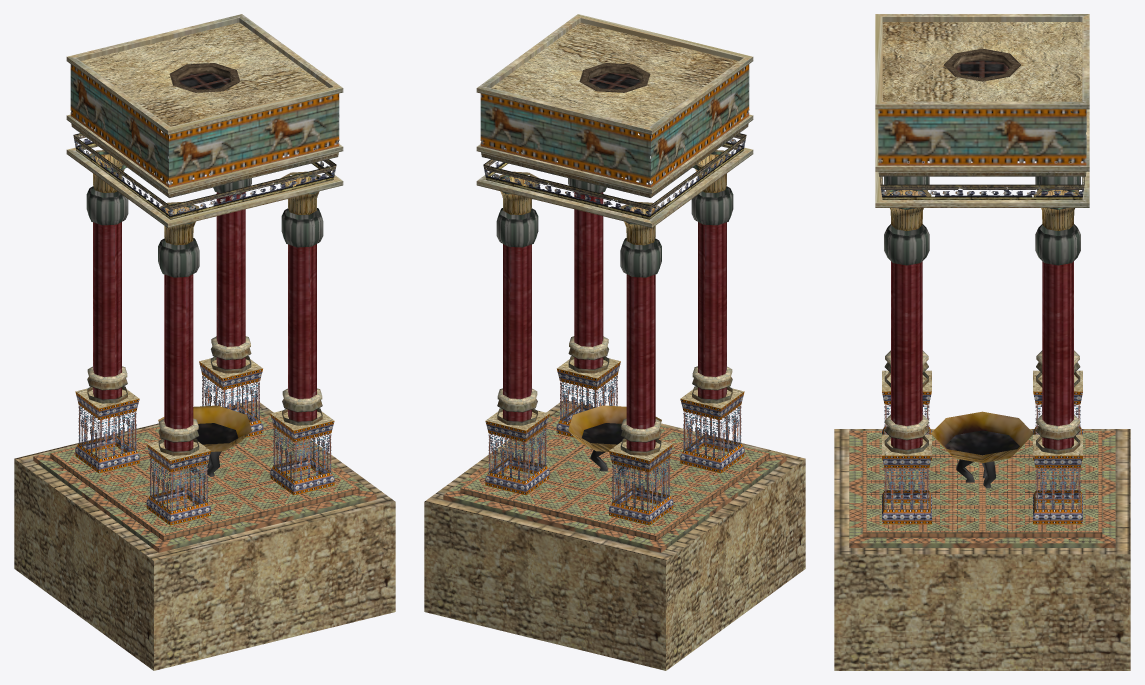
Rendered from pers_shrine.dae.
3 renders of one model, left to right at view 1: azimuth 30°, elevation 25°; view 2: azimuth 150°, elevation 25°; view 3: azimuth 270°, elevation 25°, orthographic. The views are drawn at different scales.
Parts seen in each view (by area): view 1: pers_shrine; view 2: pers_shrine; view 3: pers_shrine.
Boxes of the visible parts, box(x1,y1,x2,y2) form: pers_shrine: box(14, 14, 395, 670); pers_shrine: box(424, 14, 805, 670); pers_shrine: box(834, 14, 1130, 670).
Bounding box in the file's own units: 10.49 × 10.49 × 21.46.
